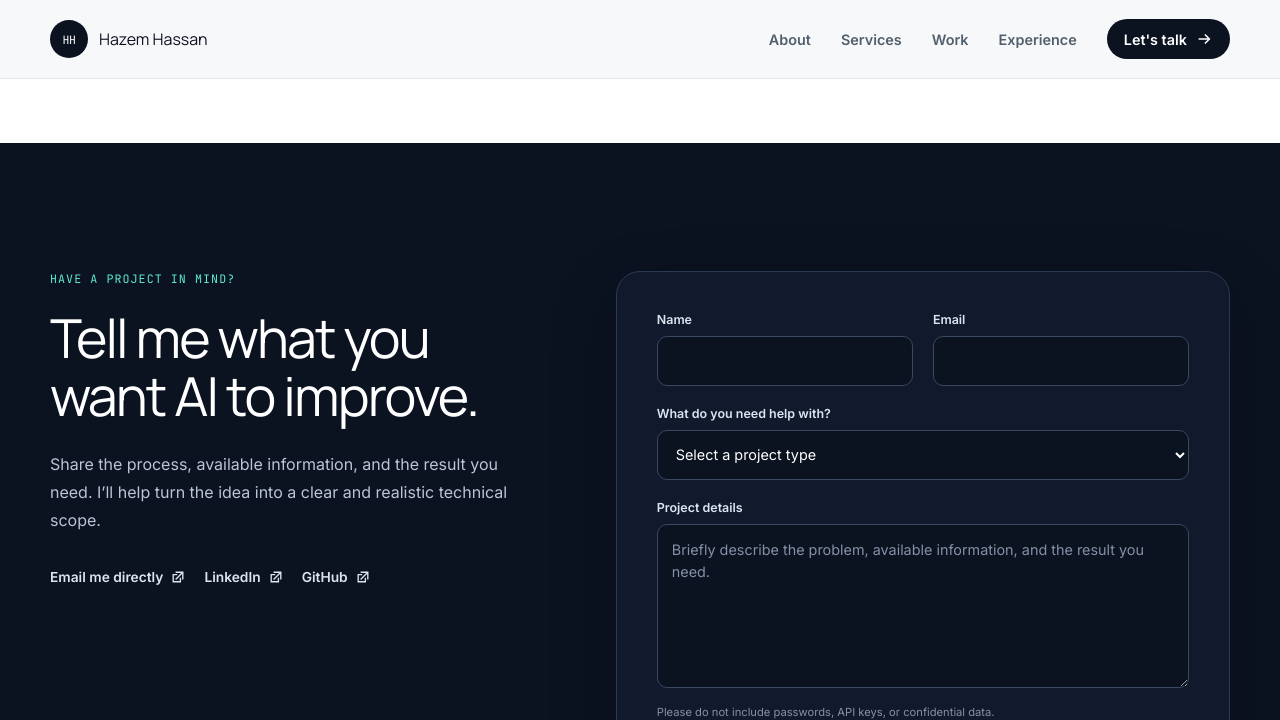
portfolio homepage › keeps the direct email option available when form delivery fails
(page scrolled)
Type "Mona Client" into the field labelled "Name" at (785, 361), box x1=657 y1=336 x2=913 y2=386
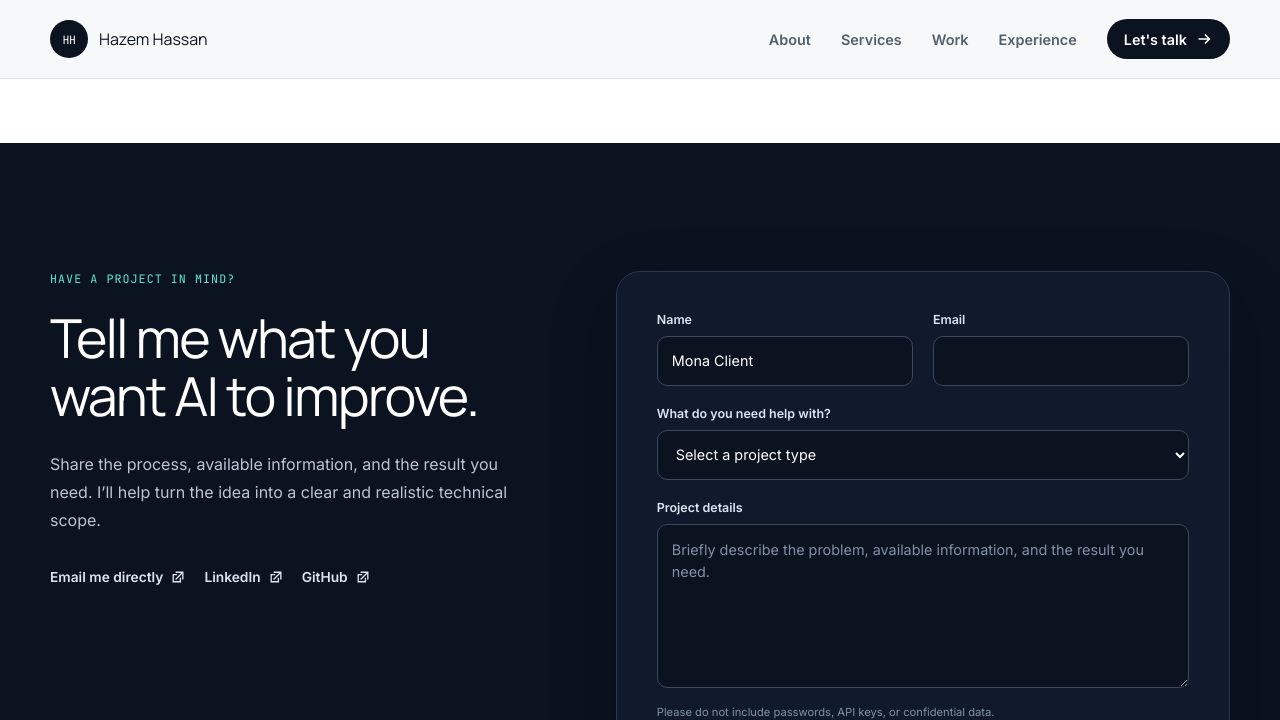
Type "mona@example.com" into the field labelled "Email" at (1061, 361), box x1=933 y1=336 x2=1189 y2=386
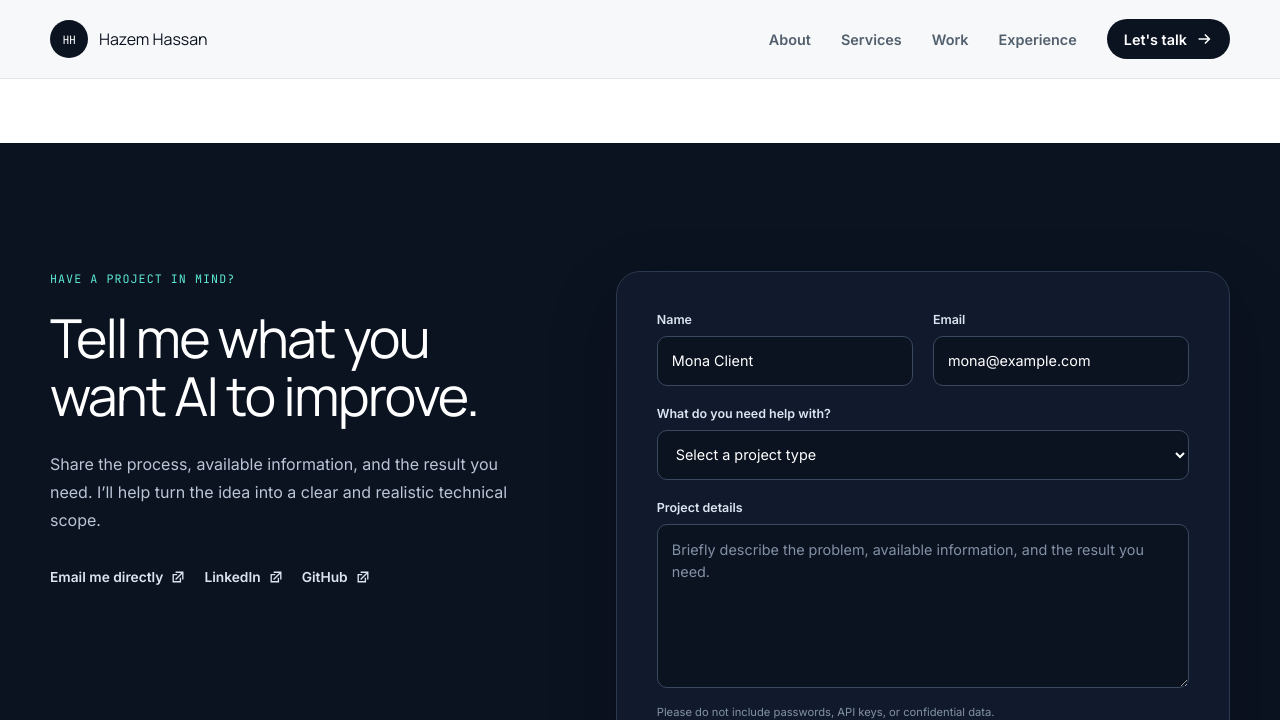
Select "Other / not sure yet" in the dropdown labelled "What do you need help with?" at (923, 455), box x1=657 y1=430 x2=1189 y2=480
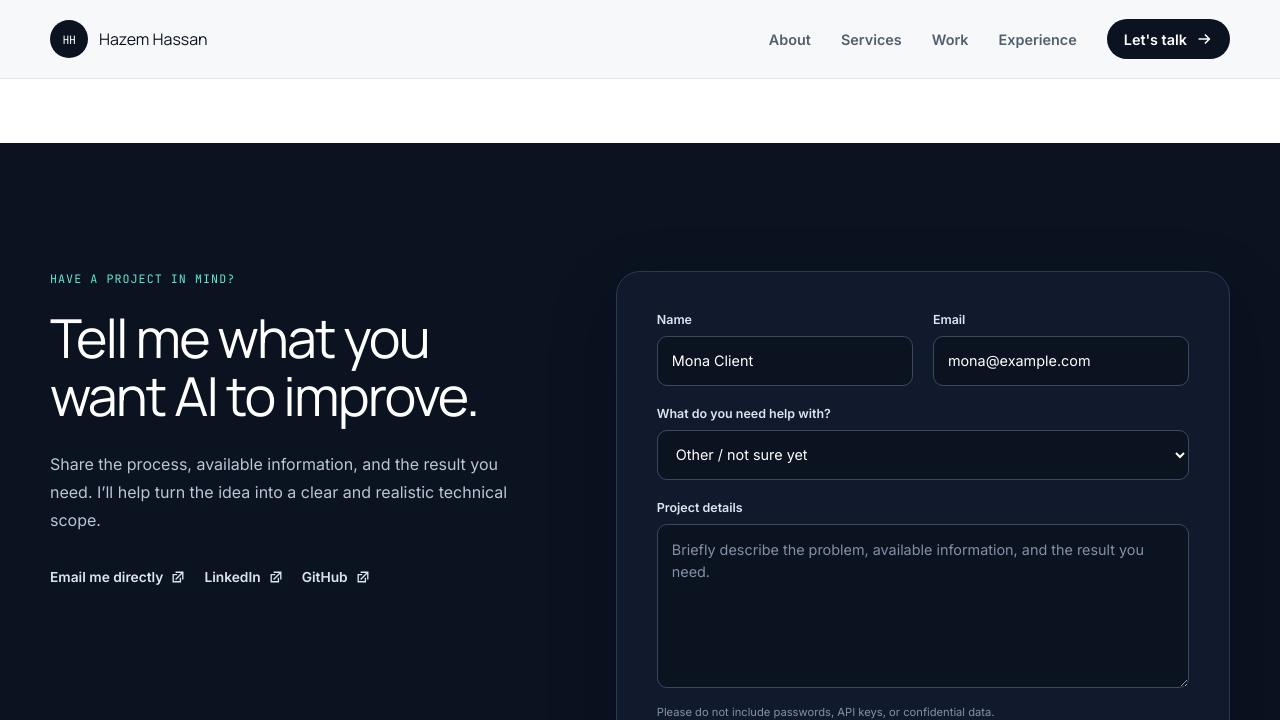
Replace the text in the text box labelled "Project details" with "I would like to discuss a possible AI project with you." at (923, 606), box x1=657 y1=524 x2=1189 y2=688
(page scrolled)
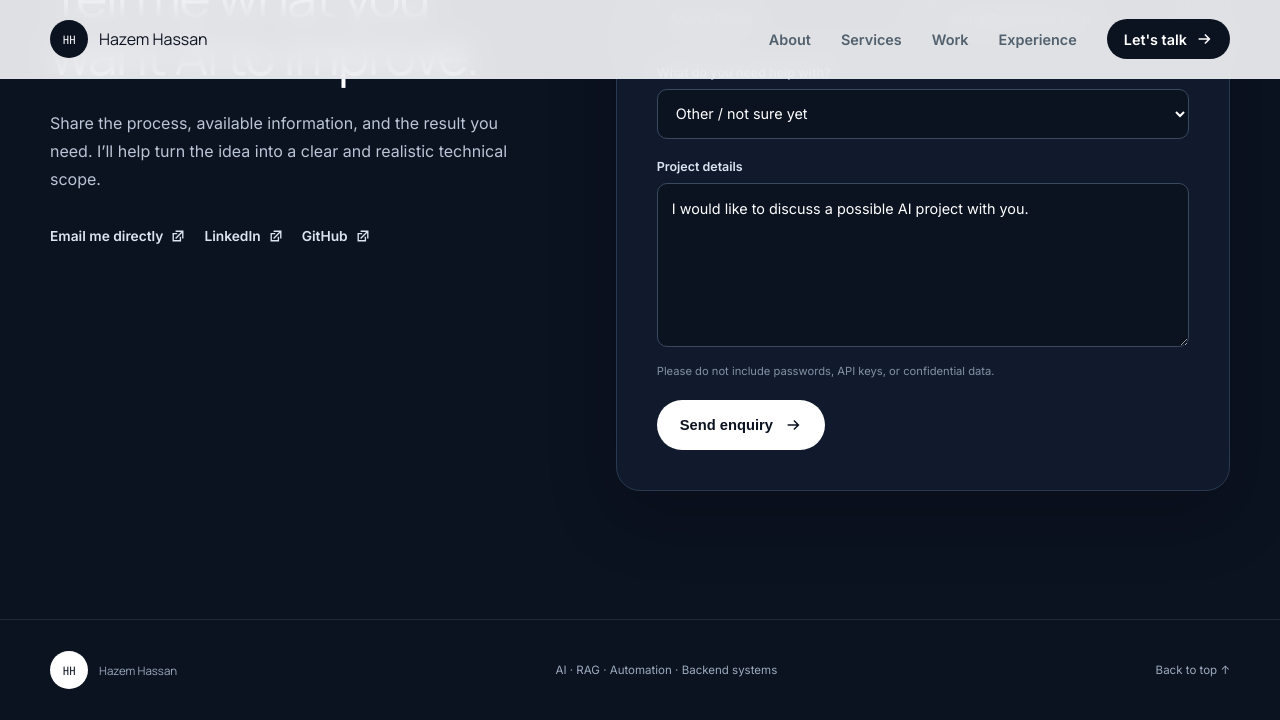
Click the button "Send enquiry" at (741, 425), box x1=657 y1=400 x2=825 y2=450
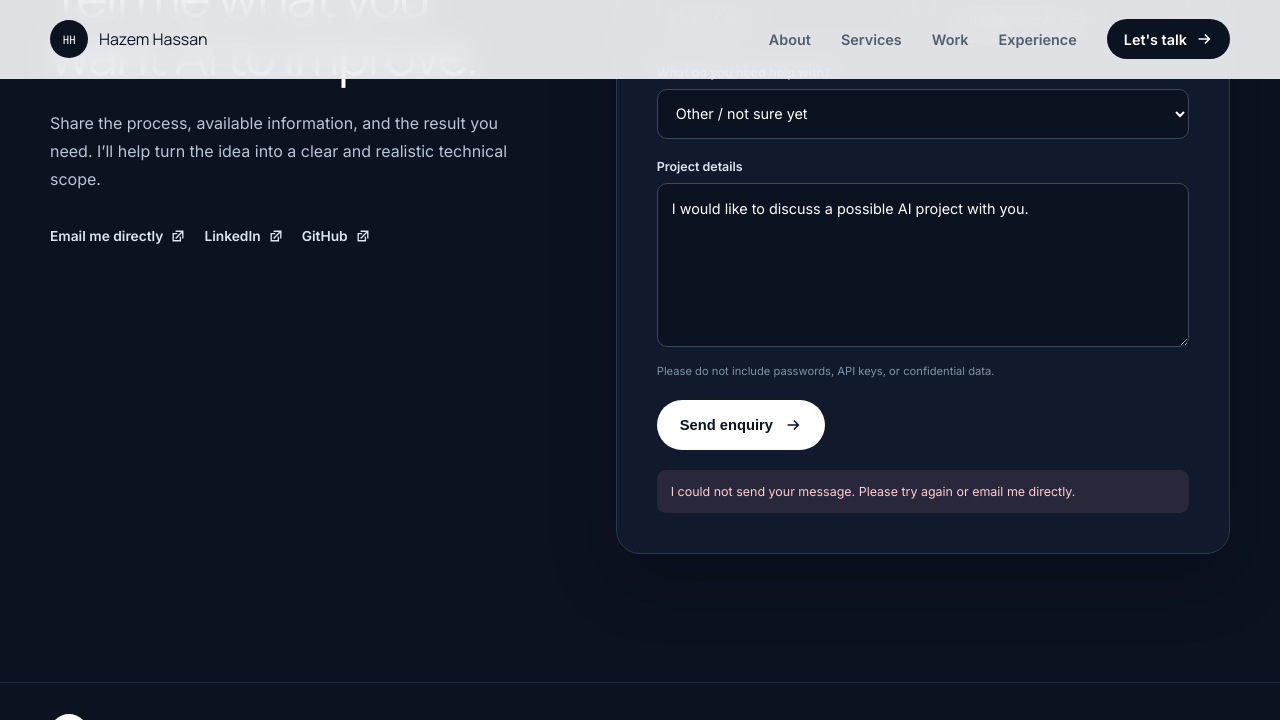
Expected: the message shows "could not send", x1=671 y1=484 x2=1075 y2=499
